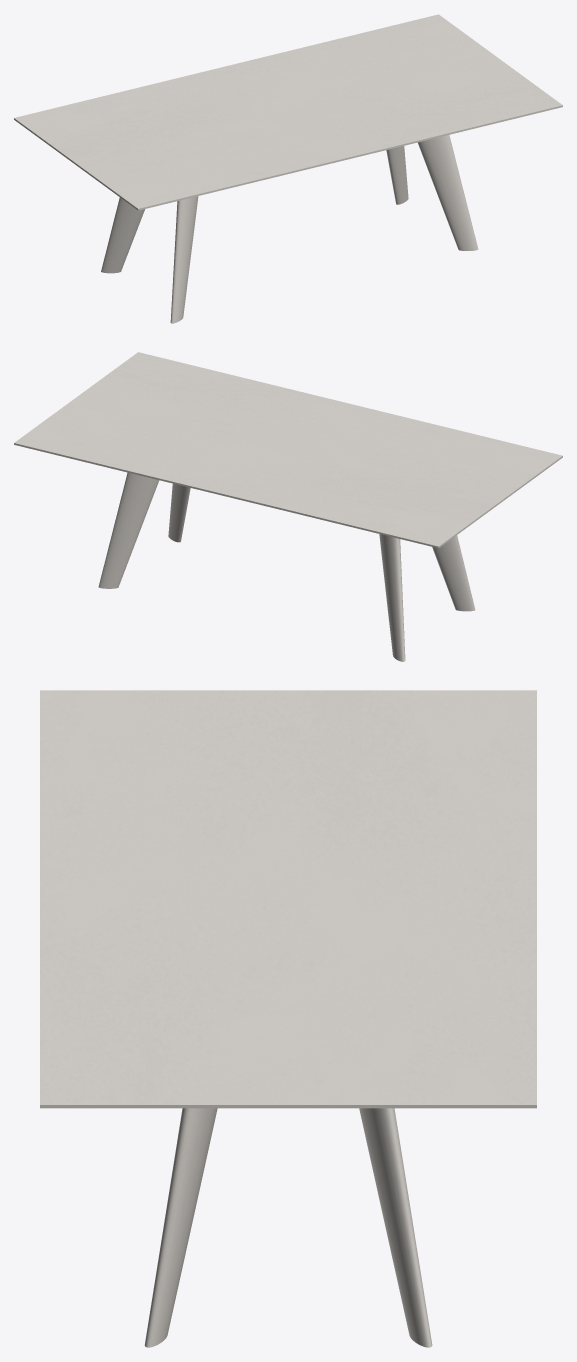
File: pearlwhite_recta_facet_ferdinantwalnut.glb
3 views of the same model, one above another, from view 1: azimuth 30°, elevation 25°; view 2: azimuth 150°, elevation 25°; view 3: azimuth 270°, elevation 25° (orthographic). The views are drawn at different scales.
Parts seen in each view (by area): view 1: facet_recta, ferdinandwalnut; view 2: facet_recta, ferdinandwalnut; view 3: facet_recta, ferdinandwalnut.
Boxes of the visible parts, left/top/right/bottom form: facet_recta: left=14, top=14, right=562, bottom=210; ferdinandwalnut: left=101, top=135, right=478, bottom=323; facet_recta: left=14, top=352, right=562, bottom=548; ferdinandwalnut: left=98, top=472, right=475, bottom=661; facet_recta: left=40, top=690, right=536, bottom=1108; ferdinandwalnut: left=144, top=1108, right=432, bottom=1347.
Size of the model in its own units: 7.5 by 2.52 by 3.8.
1 material, 1 textured.
